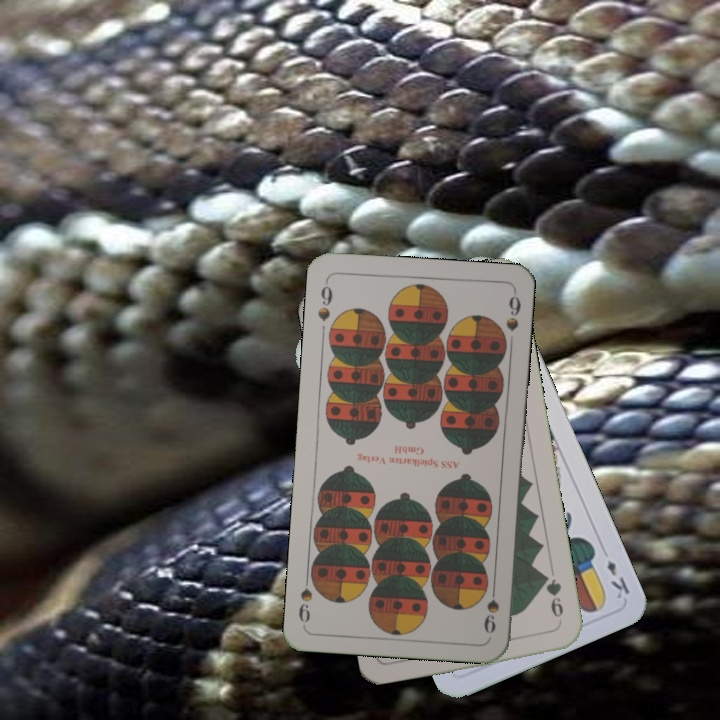EK: (603, 556, 632, 602)
G9: (539, 570, 566, 627)
S9: (478, 578, 502, 636), (314, 276, 335, 324)
